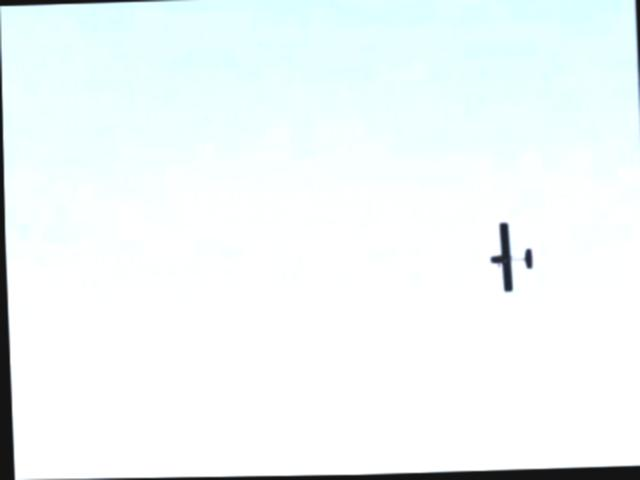uav: (478, 213, 544, 301)
